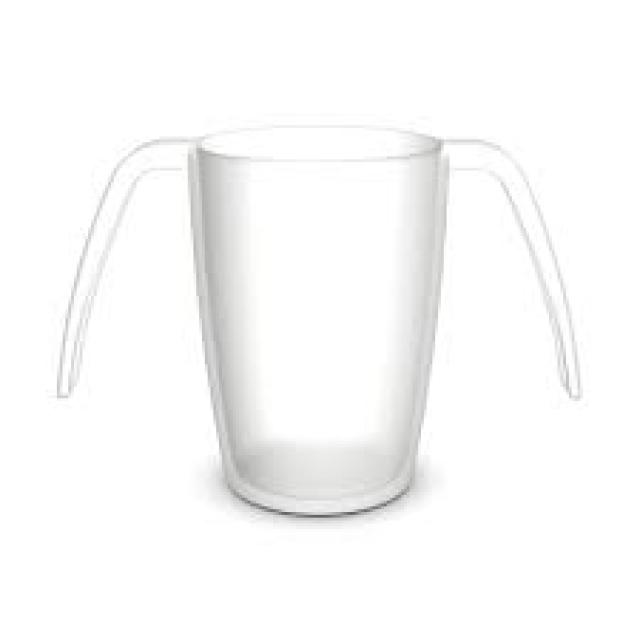cup: (166, 111, 475, 545)
